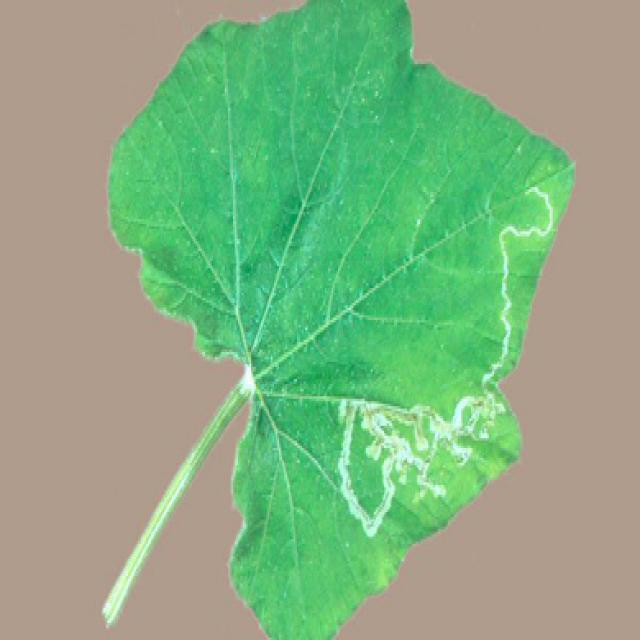Serpentine leafminer: (333, 178, 559, 547)
